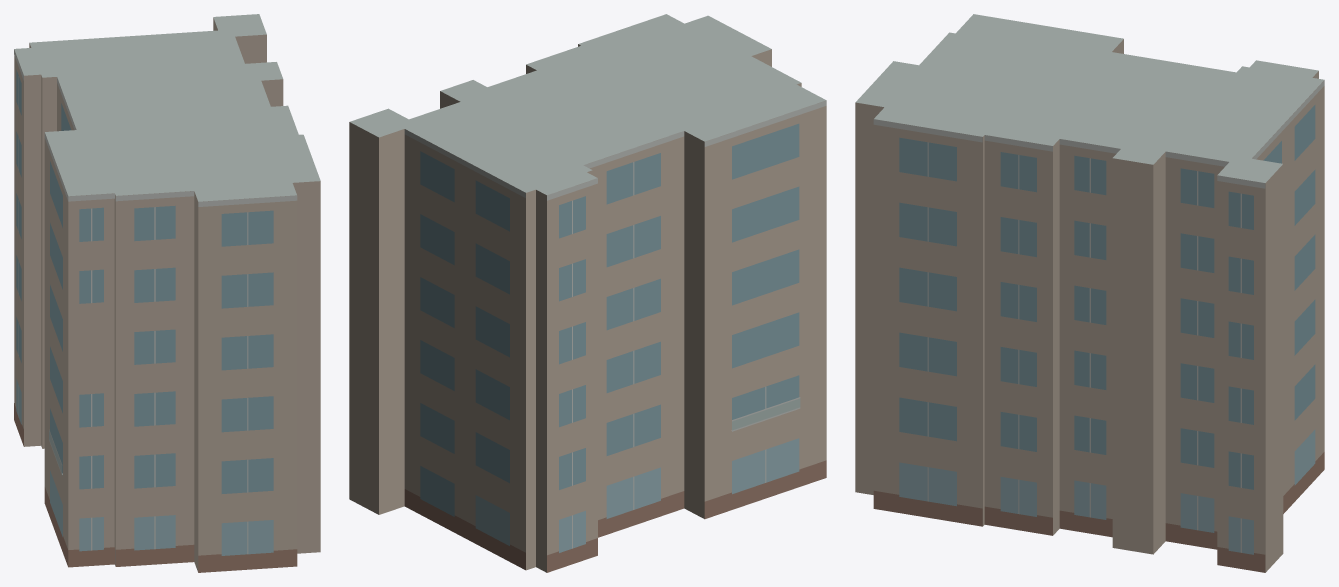
The model's file is survey-upis-32655578.glb.
3 views of the same model, side by side, from view 1: azimuth 30°, elevation 25°; view 2: azimuth 150°, elevation 25°; view 3: azimuth 270°, elevation 25° (orthographic). The views are drawn at different scales.
Visible parts, largest first — view 1: survey-upis-32655578.tmp; view 2: survey-upis-32655578.tmp; view 3: survey-upis-32655578.tmp.
Boxes of the visible parts, box(x1,y1,x2,y2) form: survey-upis-32655578.tmp: box(14, 14, 320, 572); survey-upis-32655578.tmp: box(349, 14, 826, 572); survey-upis-32655578.tmp: box(855, 14, 1324, 572).
Size of the model in its own units: 15.69 by 16.85 by 18.4.
